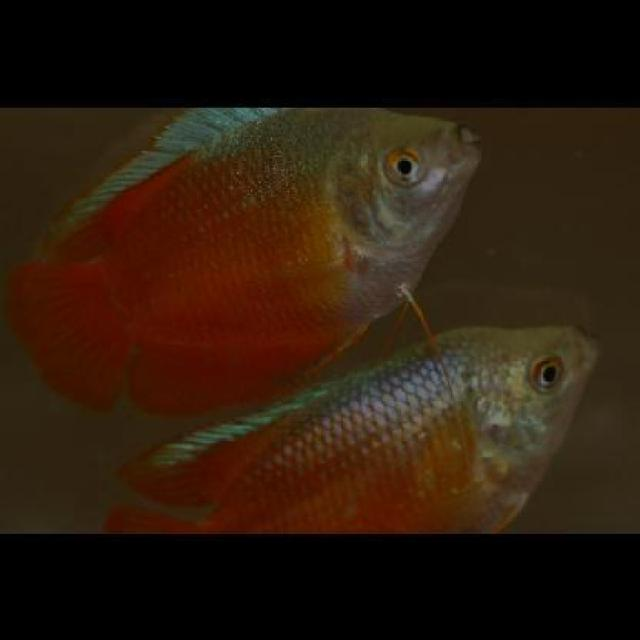Gourami: (1, 106, 482, 412), (97, 324, 605, 531)
